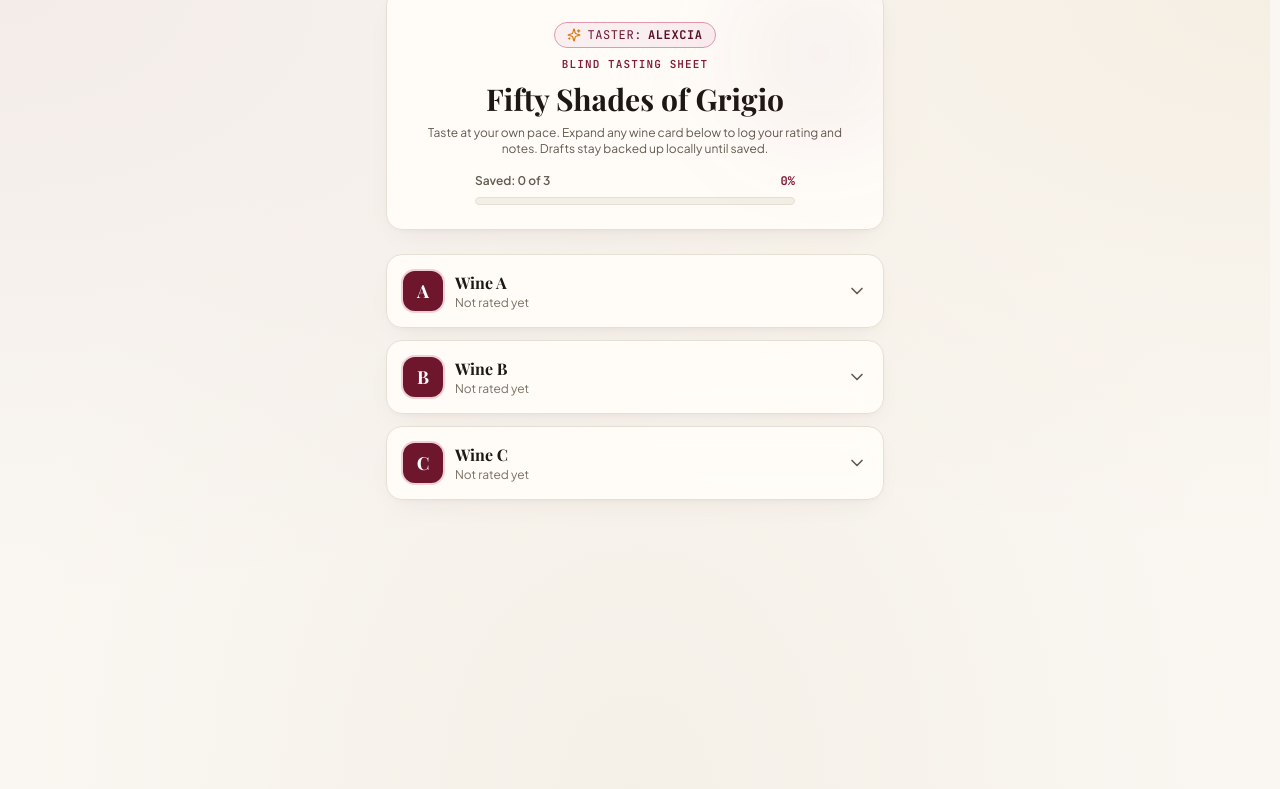
Test case: TastingSheet › persists local drafts across unmount/remount so ratings are never lost on refresh
The image size is (1280, 789).
Later steps or results of the test are not shown.
Click the button "A Wine A Not rated yet": (423, 290) [387,254,883,326]
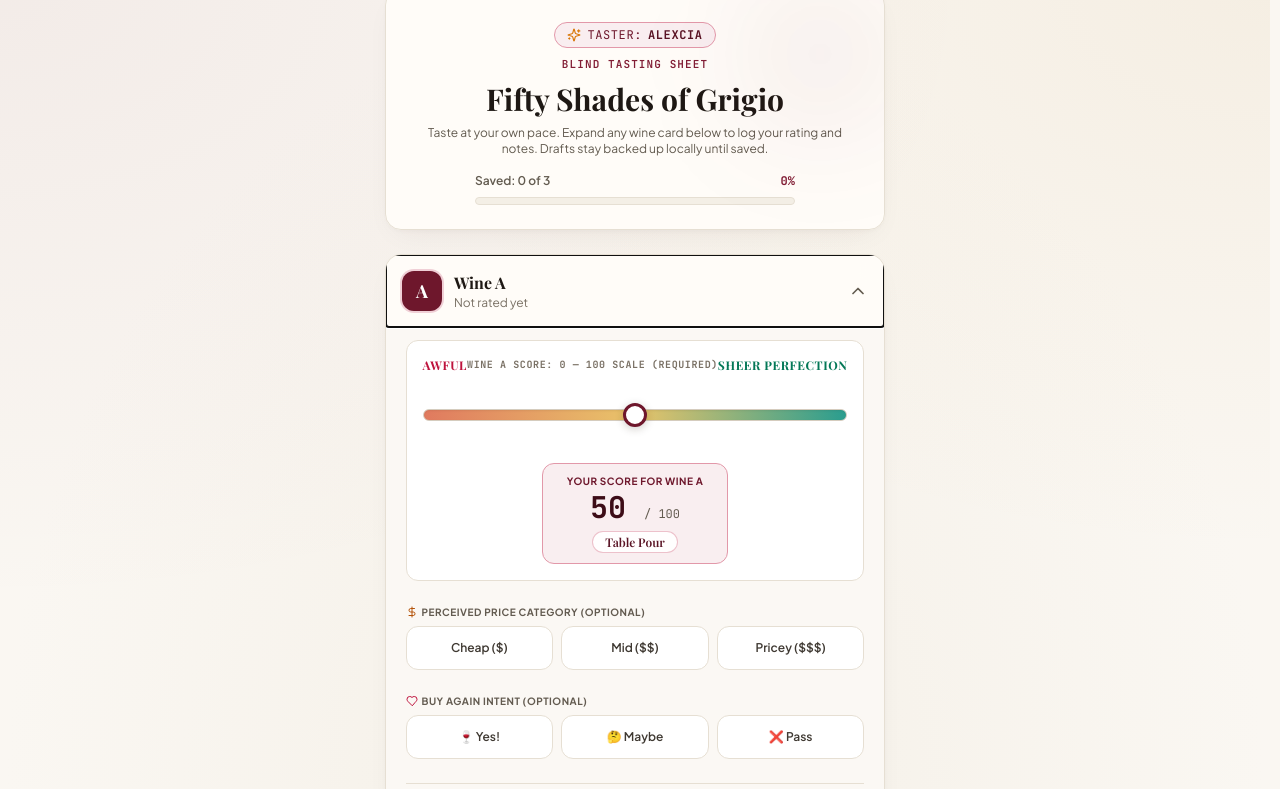
Set the slider labelled "Wine A Score: 0 — 100 Scale (Required)" to "88": (790, 414) [422,392,848,436]
(page scrolled)
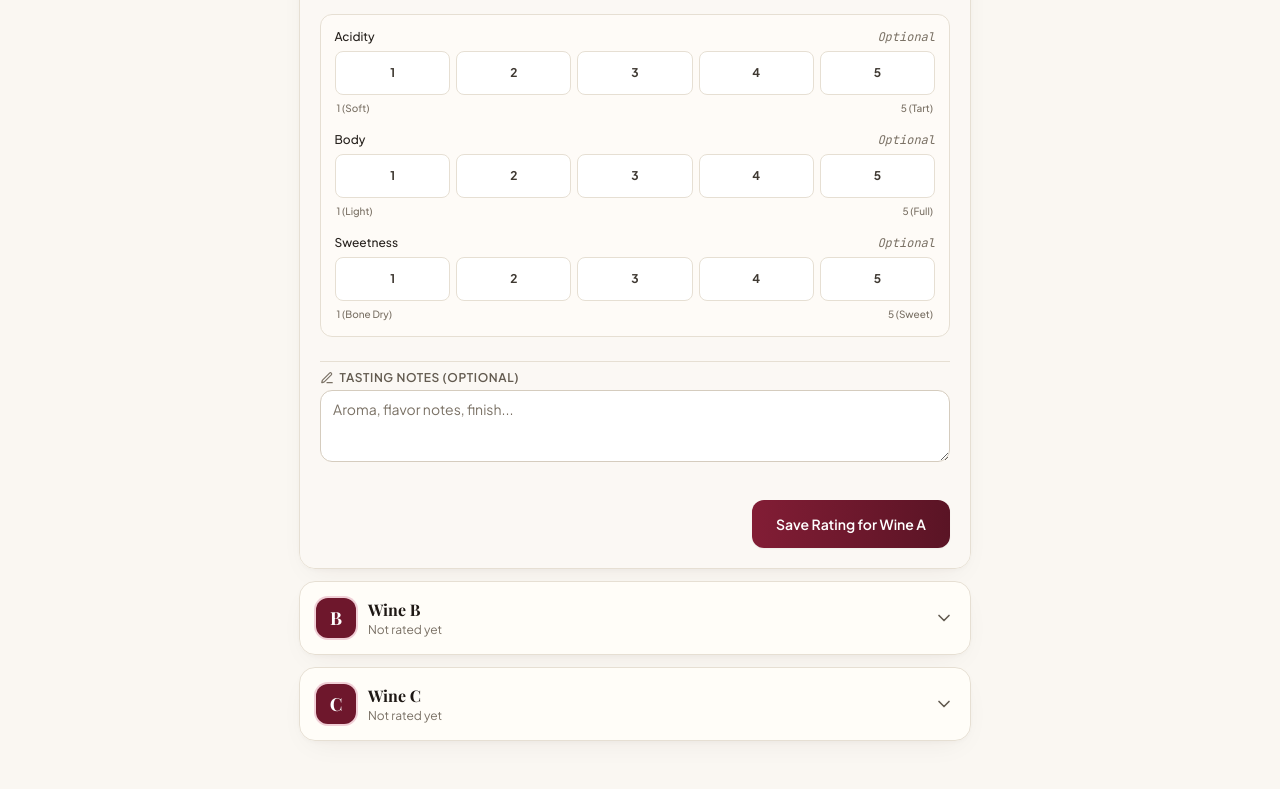
In the text box with placeholder "Aroma, flavor notes, finish...": (635, 426) [320,390,950,462], type "Bright orchard fruit"
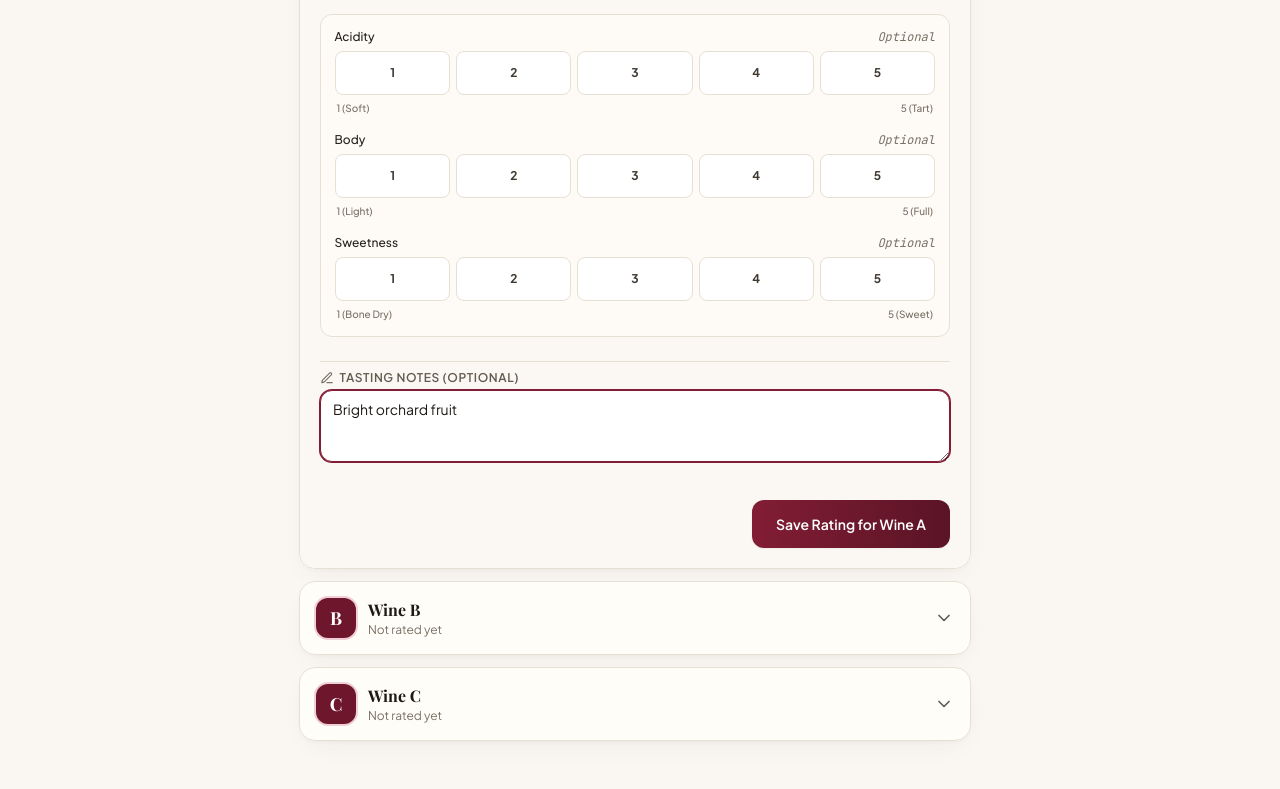
Click the button named "Sweetness 2 out of 5": (514, 278) [456,256,571,300]
(page scrolled)
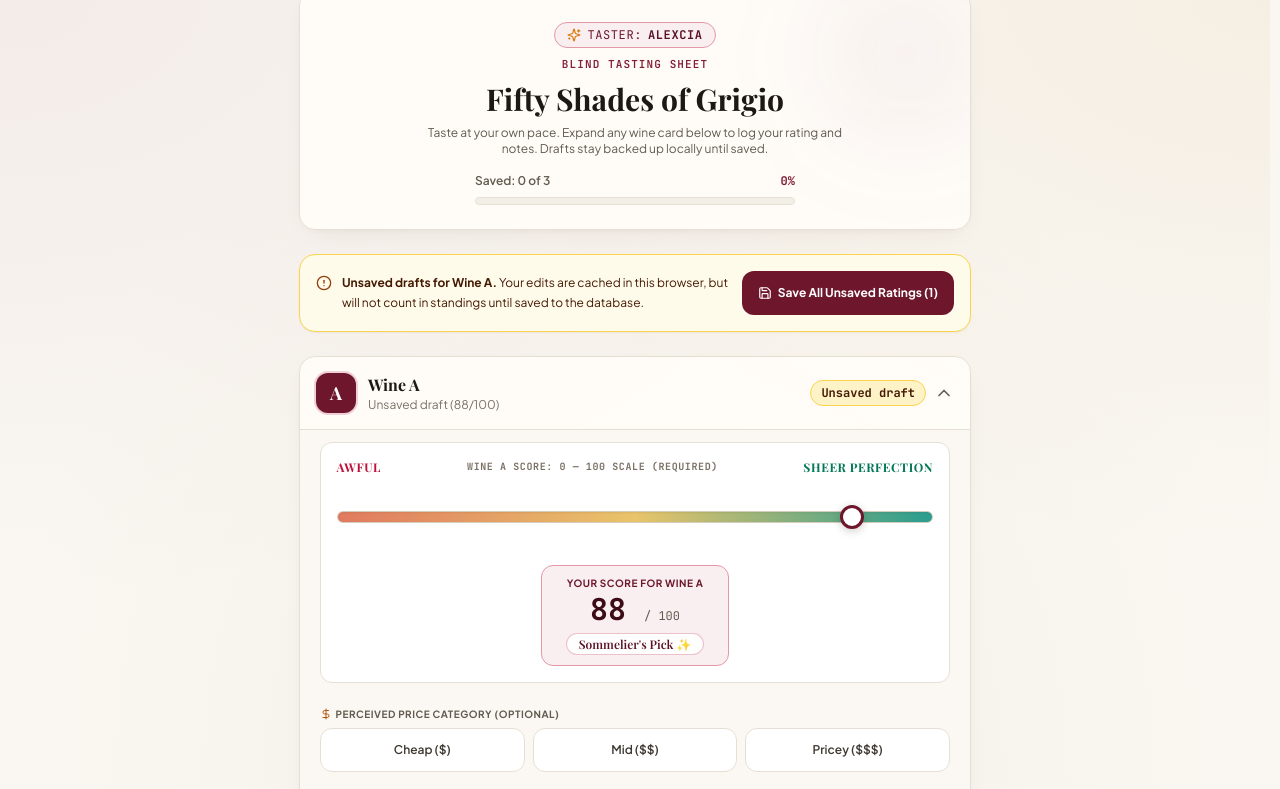
Expected: the text "Unsaved drafts for Wine A." is shown, [342,275,497,290]
Expected: the button "Save All Unsaved Ratings (1)" is shown, [742,270,954,314]
